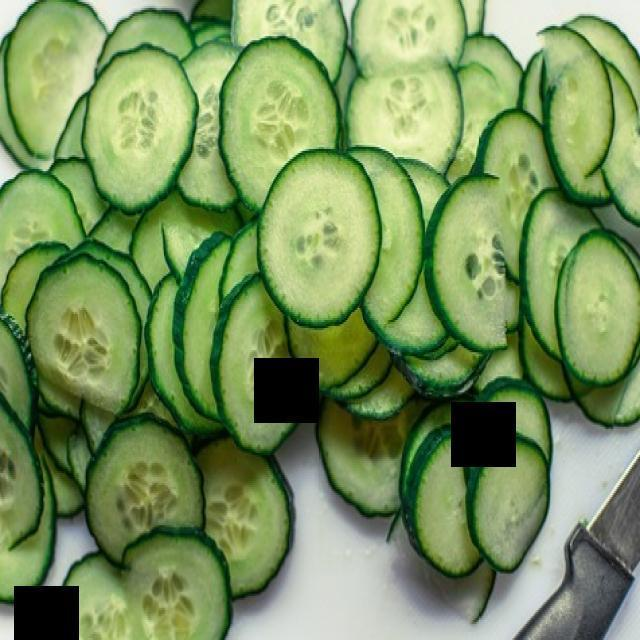cucumber: (19, 0, 503, 566), (47, 414, 277, 626), (239, 134, 399, 330), (84, 28, 210, 218), (414, 143, 512, 374), (24, 251, 149, 428), (207, 254, 299, 460)
